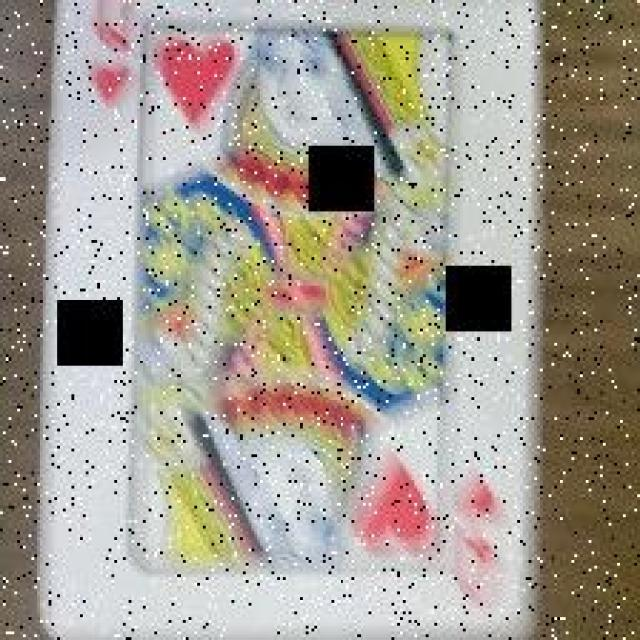Queen of hearts: (37, 0, 543, 637)
